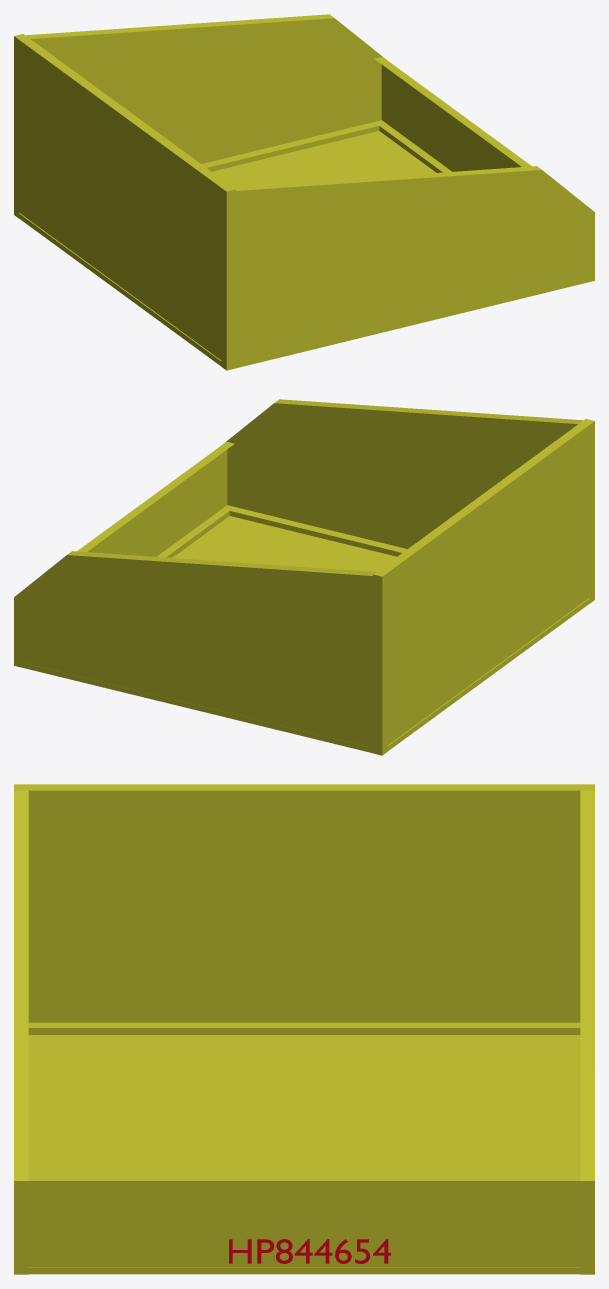
Rendered from bin.glb.
3 renders of one model, top to bottom at view 1: azimuth 30°, elevation 25°; view 2: azimuth 150°, elevation 25°; view 3: azimuth 270°, elevation 25°, orthographic. The views are drawn at different scales.
Visible parts, largest first — view 1: bin; view 2: bin; view 3: bin, bincode.
Part boxes in pixels (x1,y1,x2,y2): bin: (14, 14, 594, 370); bin: (14, 399, 594, 755); bin: (14, 784, 594, 1274); bincode: (229, 1239, 390, 1263).
Size of the model in its own units: 0.56 by 0.26 by 0.56.
